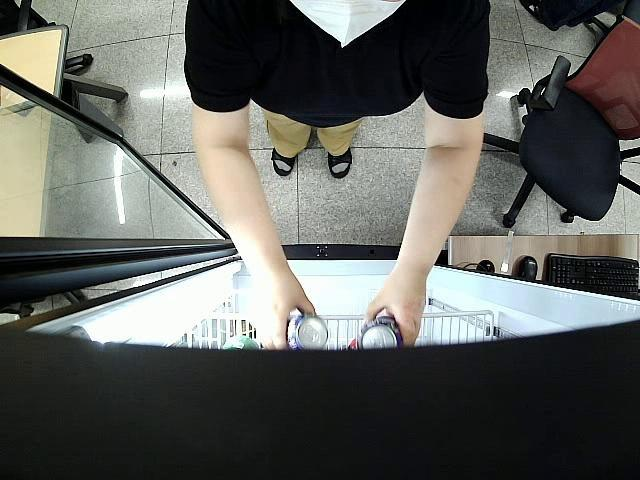14_welchsGrape: (287, 312, 328, 351), (360, 316, 402, 349)
